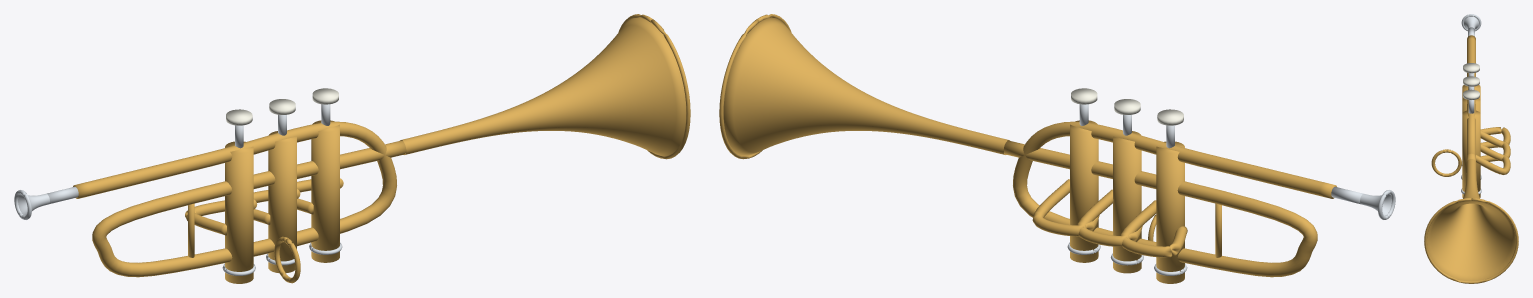
The model's file is trompette.glb.
3 renders of one model, left to right at view 1: azimuth 30°, elevation 25°; view 2: azimuth 150°, elevation 25°; view 3: azimuth 270°, elevation 25°, orthographic. The views are drawn at different scales.
Visible parts, largest first — view 1: trompette — Laiton poli, trompette — Maillechort argente, trompette — Nacre; view 2: trompette — Laiton poli, trompette — Maillechort argente, trompette — Nacre; view 3: trompette — Laiton poli, trompette — Maillechort argente, trompette — Nacre.
Part boxes in pixels (x1,y1,x2,y2): trompette — Laiton poli: (73, 14, 690, 283); trompette — Maillechort argente: (14, 104, 342, 275); trompette — Nacre: (226, 88, 338, 125); trompette — Laiton poli: (719, 14, 1336, 283); trompette — Maillechort argente: (1067, 104, 1395, 275); trompette — Nacre: (1071, 88, 1183, 125); trompette — Laiton poli: (1424, 35, 1518, 283); trompette — Maillechort argente: (1461, 14, 1481, 194); trompette — Nacre: (1463, 63, 1479, 99).
Bounding box in the file's own units: 0.659 × 0.162 × 0.134.
